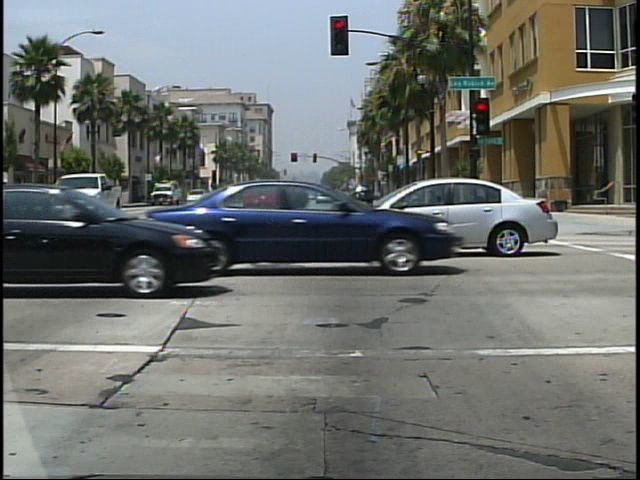person: (2, 172, 19, 229)
